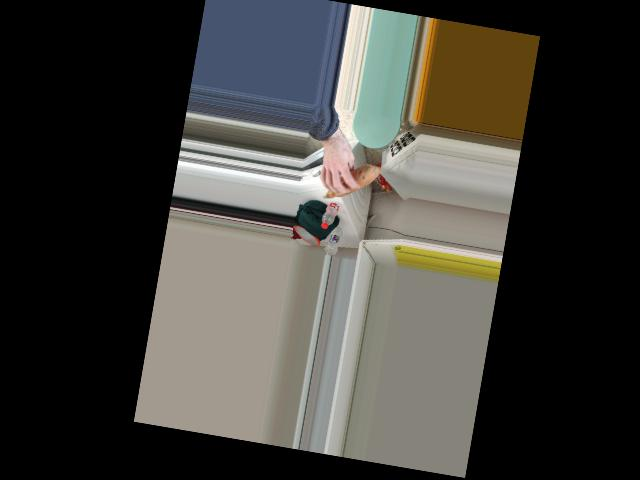sweet_potato: (319, 158, 377, 204)
